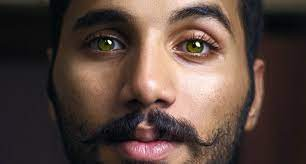e.other: (94, 36, 111, 53)
